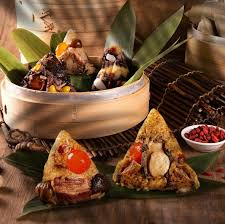zongzi: (112, 109, 199, 191), (36, 131, 105, 203), (21, 53, 74, 91), (55, 29, 95, 75), (93, 46, 128, 89)
